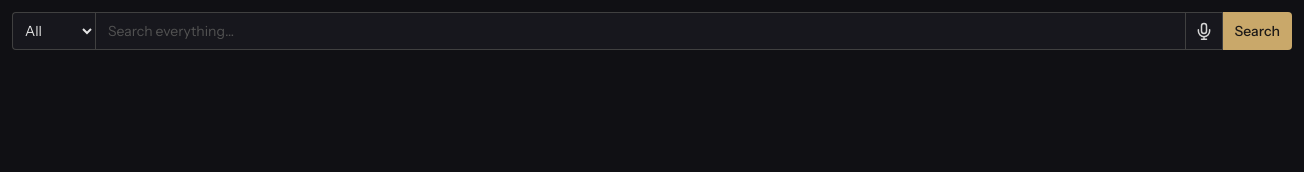
Scenario: SearchForm › transcribes speech into the existing catalog search form and submits it
What coordinates should you click on to do the following:
click the button named "Start voice search"
I would click on:
 (1204, 31)
Its box is x1=1186 y1=12 x2=1222 y2=50.
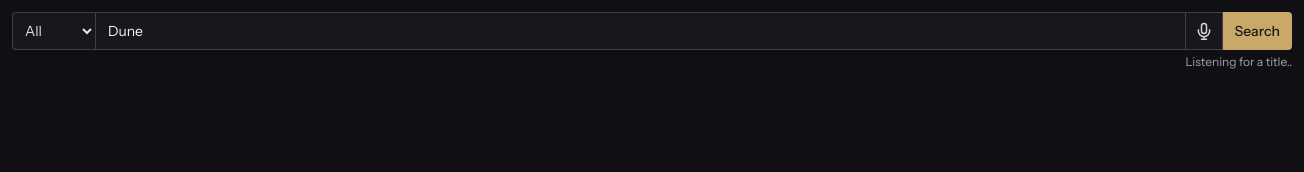
Check: the search field holds "Dune", box x1=95 y1=12 x2=1186 y2=50
